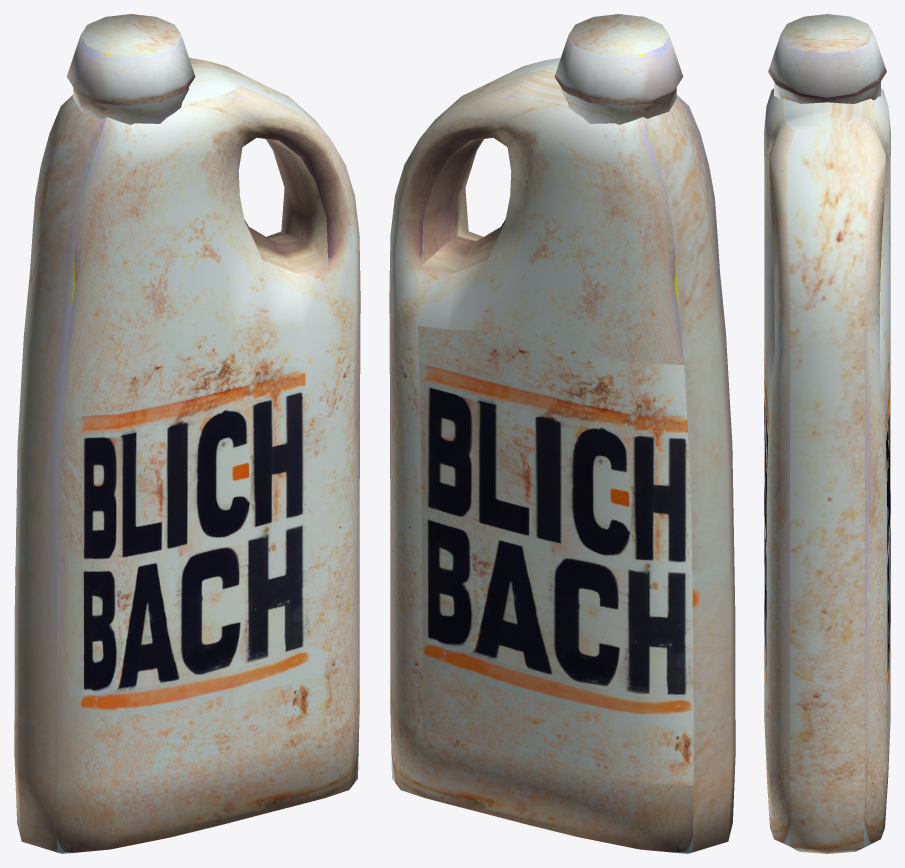
File: SM_Bleach00.fbx
3 renders of one model, left to right at view 1: azimuth 30°, elevation 25°; view 2: azimuth 150°, elevation 25°; view 3: azimuth 270°, elevation 25°, orthographic. The views are drawn at different scales.
Visible parts, largest first — view 1: SM_Bleach00; view 2: SM_Bleach00; view 3: SM_Bleach00.
Part boxes in pixels (x1=…): SM_Bleach00: x1=14, y1=14, x2=360, y2=853; SM_Bleach00: x1=389, y1=14, x2=735, y2=853; SM_Bleach00: x1=764, y1=14, x2=890, y2=853.
Bounding box in the file's own units: 18.83 × 43.52 × 6.86.
